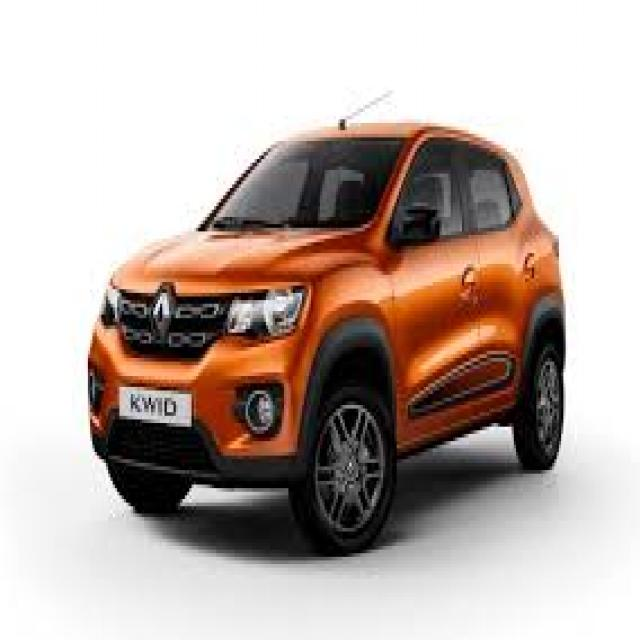car: (62, 64, 593, 608)
